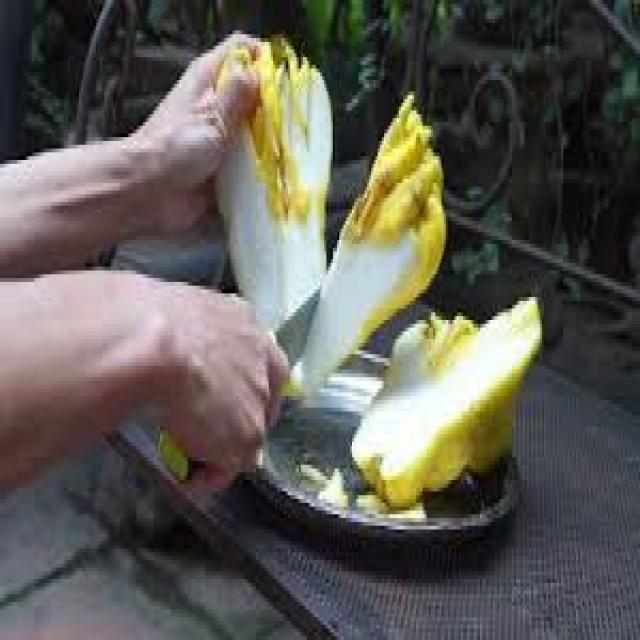PhatThu: (323, 271, 582, 519), (292, 76, 453, 418), (207, 25, 336, 297)
